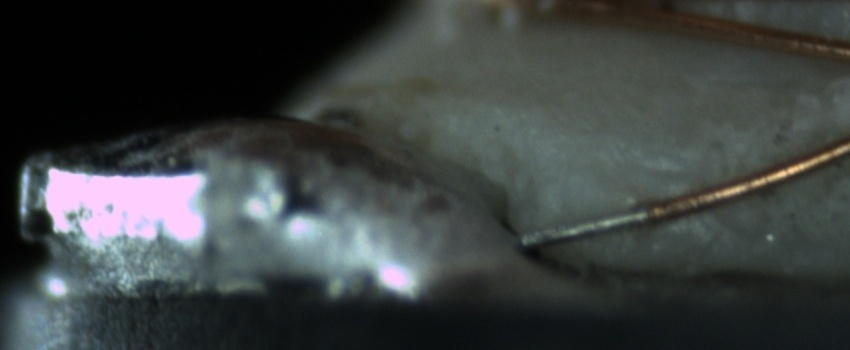TS: (516, 205, 650, 247)
